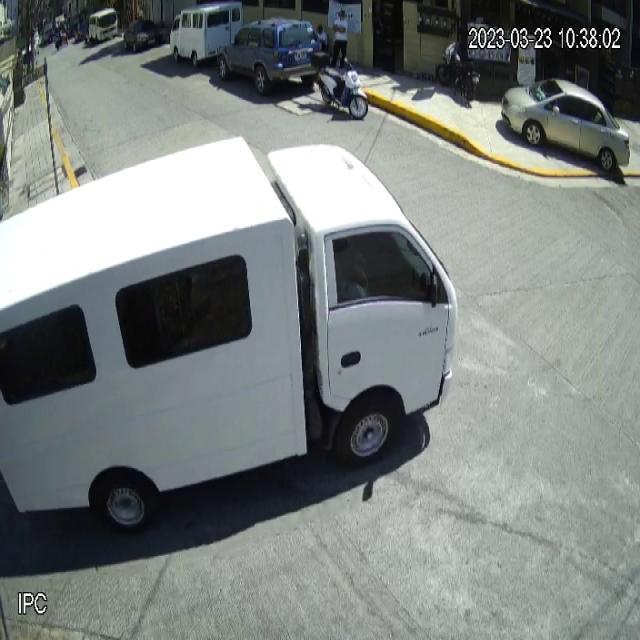Car: (501, 77, 631, 172), (217, 17, 323, 89)
Motorcycle: (310, 48, 368, 122)
Van: (0, 136, 458, 537), (170, 0, 243, 70)
